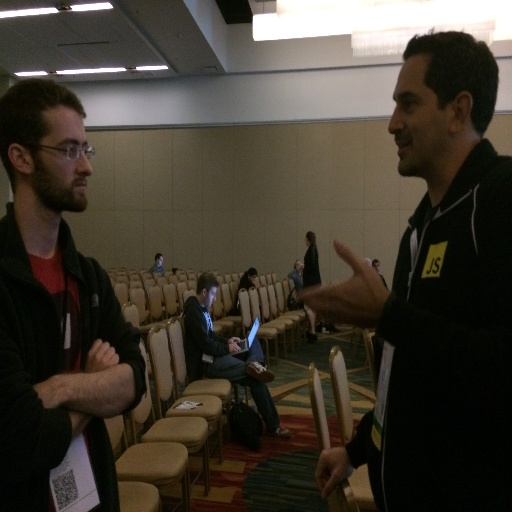hand: (292, 238, 391, 327), (312, 445, 354, 501), (82, 336, 121, 374), (31, 373, 64, 411), (225, 336, 242, 345), (227, 343, 239, 353), (297, 261, 304, 270)
